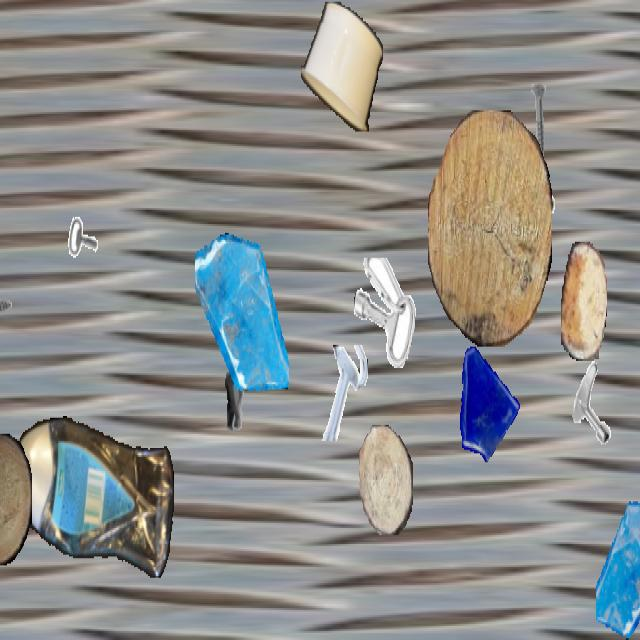glass: (195, 231, 289, 398), (450, 336, 520, 460), (596, 500, 640, 638)
metal: (503, 176, 565, 286), (354, 258, 416, 368), (316, 345, 370, 441), (566, 356, 620, 452), (210, 359, 260, 448), (515, 80, 563, 165), (68, 192, 108, 263), (0, 270, 12, 352)
plastic: (13, 414, 173, 585), (301, 2, 383, 130)
wood: (428, 110, 552, 345), (359, 425, 413, 535), (561, 242, 607, 359), (0, 434, 32, 565)
